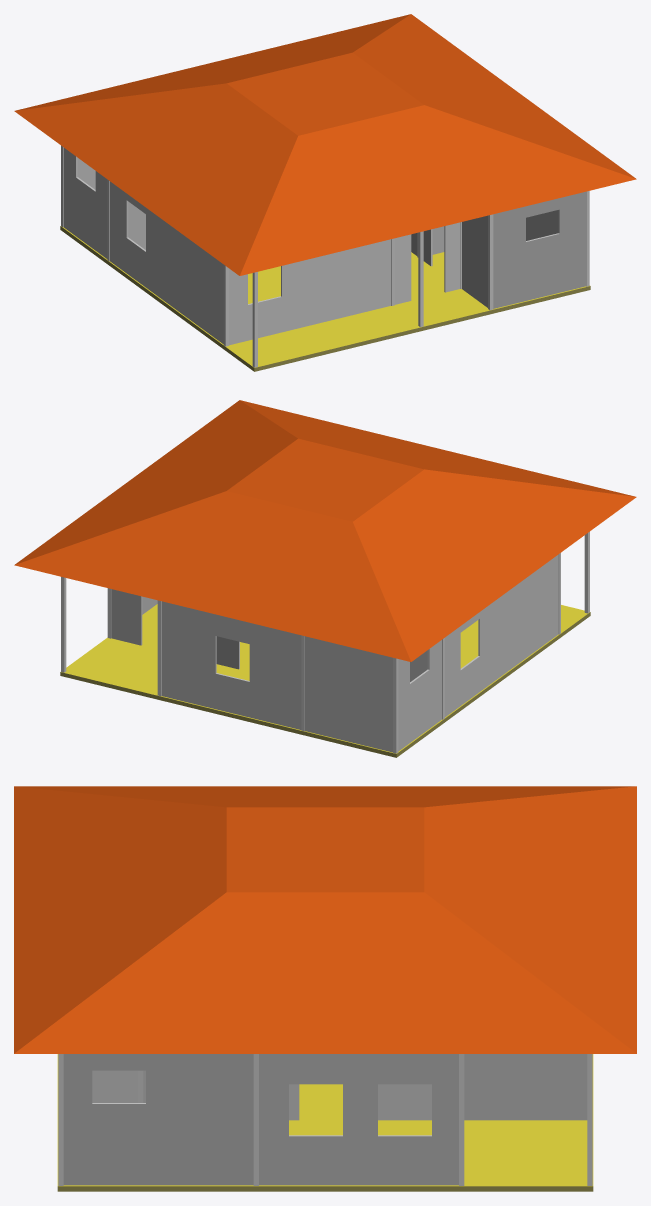
The model's file is Casa C1-09.fbx.
3 renders of one model, top to bottom at view 1: azimuth 30°, elevation 25°; view 2: azimuth 150°, elevation 25°; view 3: azimuth 270°, elevation 25°, orthographic. The views are drawn at different scales.
Visible parts, largest first — view 1: Cubo.001; view 2: Cubo.001; view 3: Cubo.001.
Boxes of the visible parts, x1=… form: Cubo.001: x1=14, y1=14, x2=636, y2=371; Cubo.001: x1=14, y1=400, x2=636, y2=757; Cubo.001: x1=14, y1=786, x2=636, y2=1191.
Bounding box in the file's own units: 1734 × 691 × 1706.
